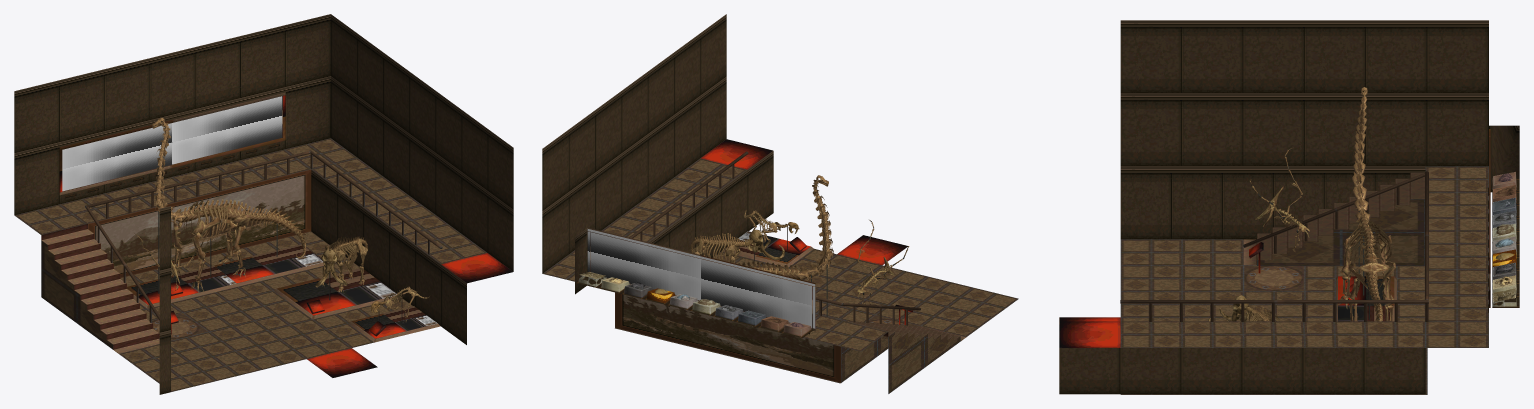
File: dinos2.obj
3 renders of one model, left to right at view 1: azimuth 30°, elevation 25°; view 2: azimuth 150°, elevation 25°; view 3: azimuth 270°, elevation 25°, orthographic. The views are drawn at different scales.
Parts seen in each view (by area): view 1: polygon64.001, polygon4.003, polygon29.003, polygon31.001, polygon27.003, polygon66.001, polygon6.003, polygon3.003, polygon2.003, polygon7.003, polygon0.003, polygon28.002 (+15 smaller); view 2: polygon64.001, polygon66.001, polygon31.001, polygon4.003, polygon29.003, polygon27.003, polygon7.003, polygon5.003, polygon27.002, polygon1.003, polygon30.003, polygon28.003 (+9 smaller); view 3: polygon64.001, polygon29.003, polygon27.003, polygon4.003, polygon7.003, polygon6.003, polygon5.003, polygon28.002, polygon30.003, polygon63.001, polygon32.001, polygon29.002 (+8 smaller).
Part boxes in pixels (x1,y1,x2,y2): polygon64.001: (14,14,513,271); polygon4.003: (120,231,412,380); polygon29.003: (14,138,486,263); polygon31.001: (88,169,311,277); polygon27.003: (311,169,466,344); polygon66.001: (62,96,282,191); polygon6.003: (41,224,159,353); polygon3.003: (127,244,323,308); polygon2.003: (274,268,401,319); polygon7.003: (41,240,112,349); polygon0.003: (159,206,170,394); polygon28.002: (171,199,228,292); polygon64.001: (542,14,726,273); polygon66.001: (587,229,815,328); polygon31.001: (615,292,841,382); polygon4.003: (615,248,972,383); polygon29.003: (543,158,887,351); polygon27.003: (648,151,773,257); polygon7.003: (841,332,960,393); polygon5.003: (920,287,1018,336); polygon27.002: (796,175,833,316); polygon1.003: (721,231,813,267); polygon30.003: (700,139,772,169); polygon28.003: (837,235,907,265); polygon64.001: (1120,20,1488,239); polygon29.003: (1120,166,1488,347); polygon27.003: (1059,348,1425,394); polygon4.003: (1120,265,1427,394); polygon7.003: (1257,199,1424,265); polygon6.003: (1243,172,1424,264); polygon5.003: (1120,239,1243,265); polygon28.002: (1336,214,1395,319); polygon30.003: (1059,321,1120,347); polygon63.001: (1489,125,1519,192); polygon32.001: (1243,265,1304,290); polygon29.002: (1348,249,1396,321).
Size of the model in its own units: 464 by 258 by 480.
